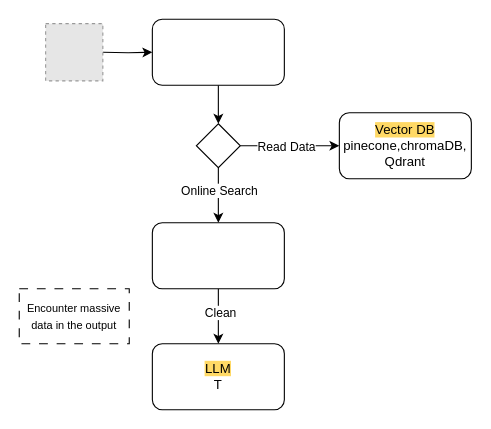
Some shapes in this 491 by 429 pixel diagram are drawn without their labels. Grey dashed boxes stand in for pictures. Each missing label, with the centre of its shape:
"Playing the music ヨルシカ - パレード (Music Video)" goes at pixel 217 51.
"Retrival Tavily API, Firecrawl, Jina Reader API" goes at pixel 217 255.
